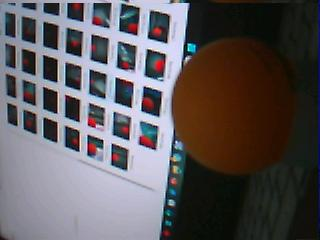oball: (171, 38, 294, 175)
